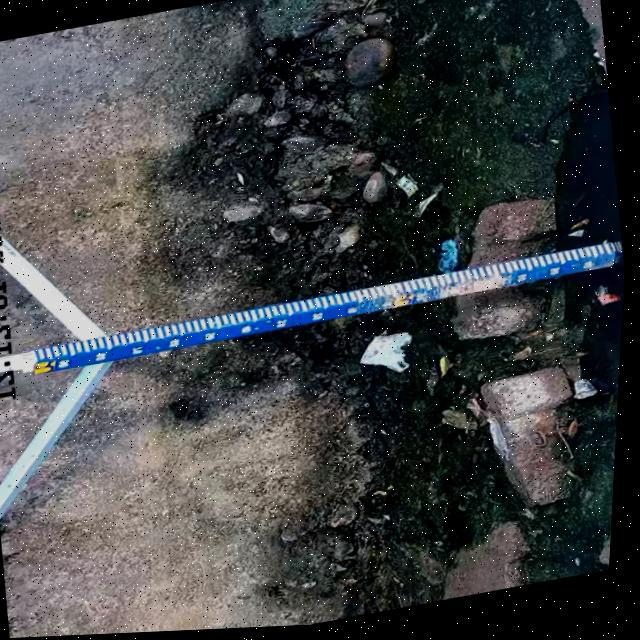water-meter: (20, 234, 626, 383)
